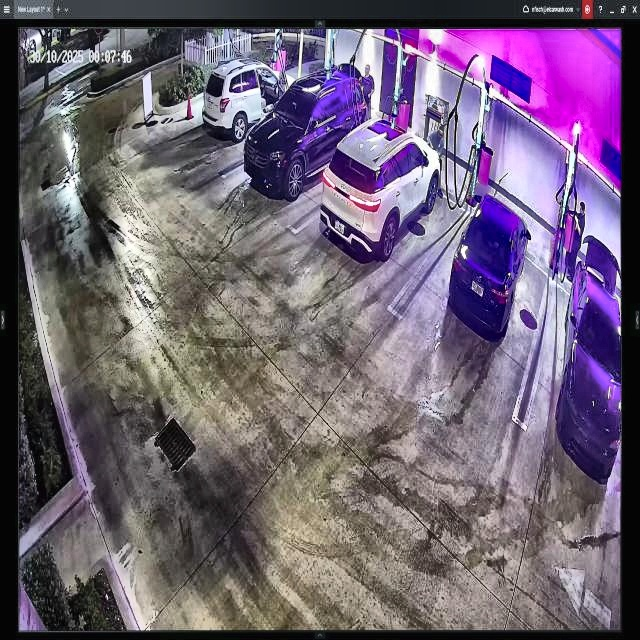Car: (320, 118, 441, 260), (244, 68, 367, 202), (450, 194, 530, 338)
